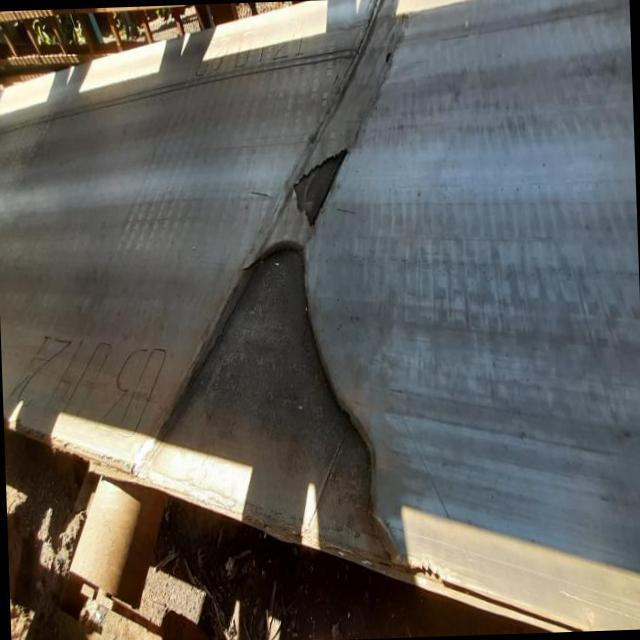Tear: (124, 235, 416, 588), (276, 138, 370, 235)
